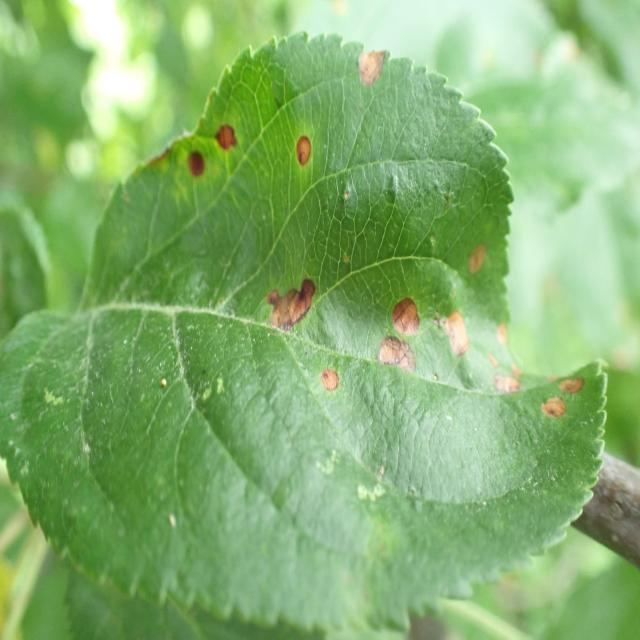Black Rot: (340, 10, 404, 120), (242, 265, 320, 340), (484, 322, 524, 426), (166, 146, 222, 205), (318, 344, 352, 439), (370, 338, 438, 384), (388, 281, 428, 354), (276, 107, 320, 173), (559, 354, 597, 423), (529, 392, 569, 457), (441, 300, 475, 360), (214, 107, 246, 169), (465, 233, 498, 287)
